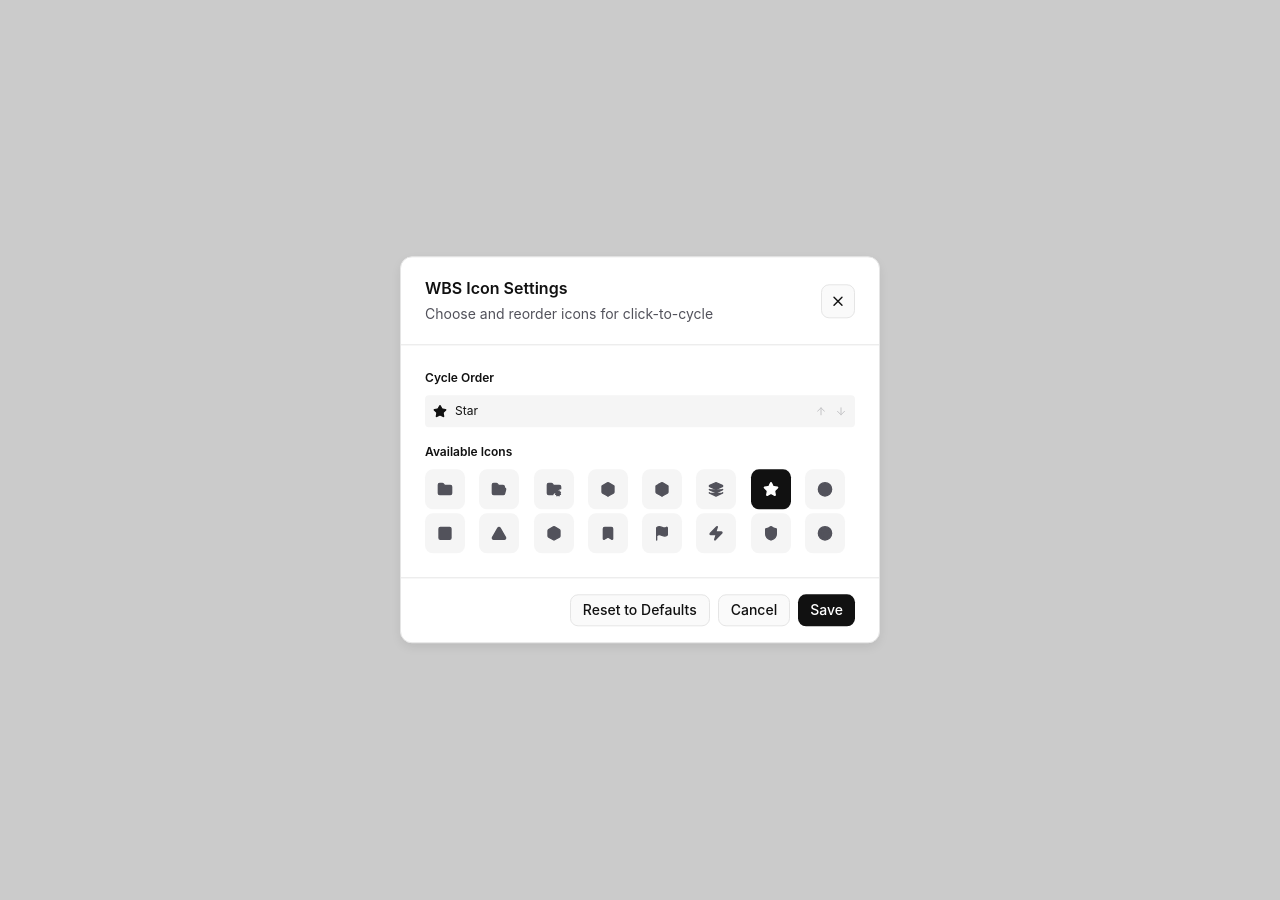
Test case: WbsIconSettingsModal › disables Save when no icons are selected
The image size is (1280, 900).
Click the button with test id "icon-toggle-Star" at (770, 490), box top-left (750, 470), bottom-right (790, 510)
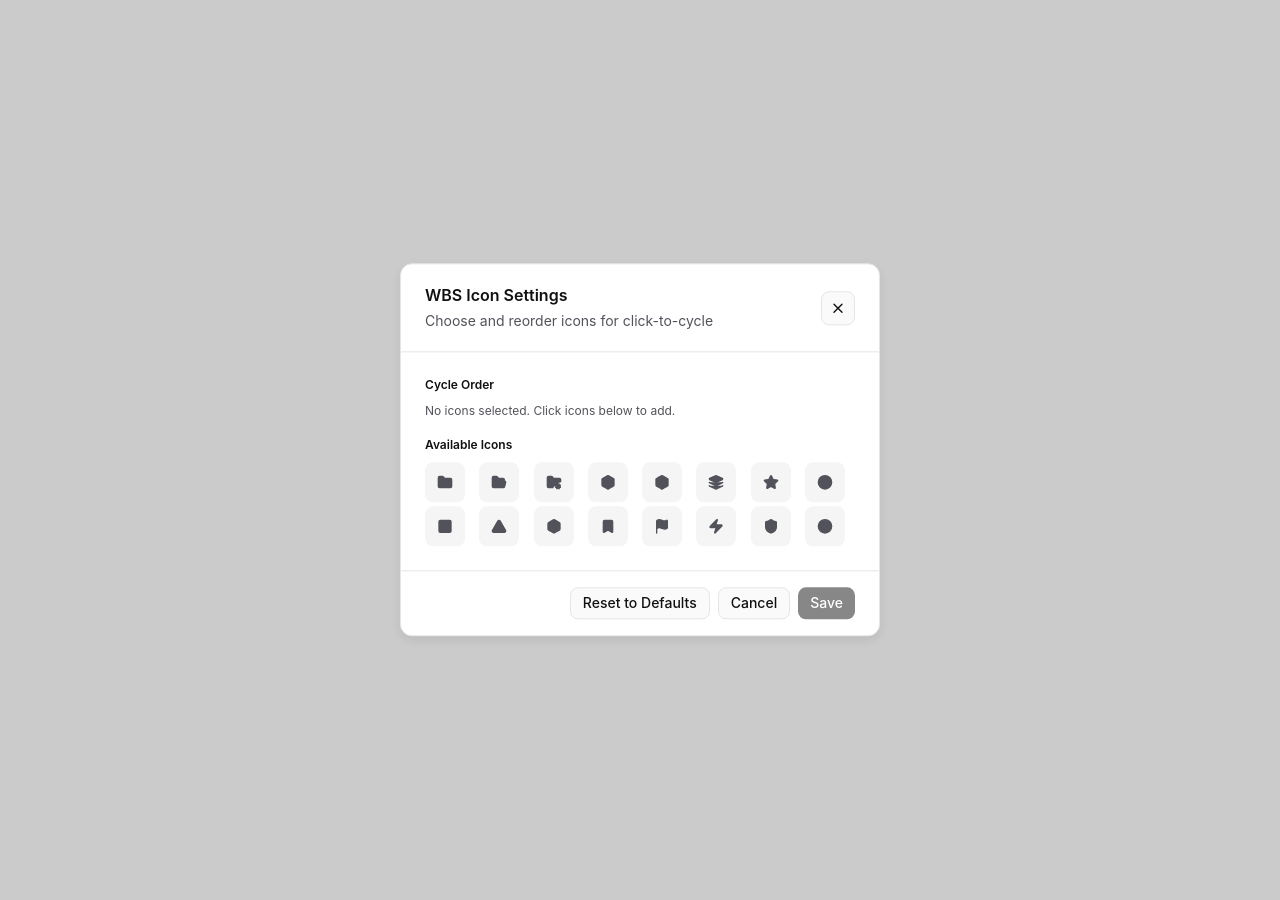
Now the button "Save" is disabled, box top-left (798, 588), bottom-right (855, 620)
